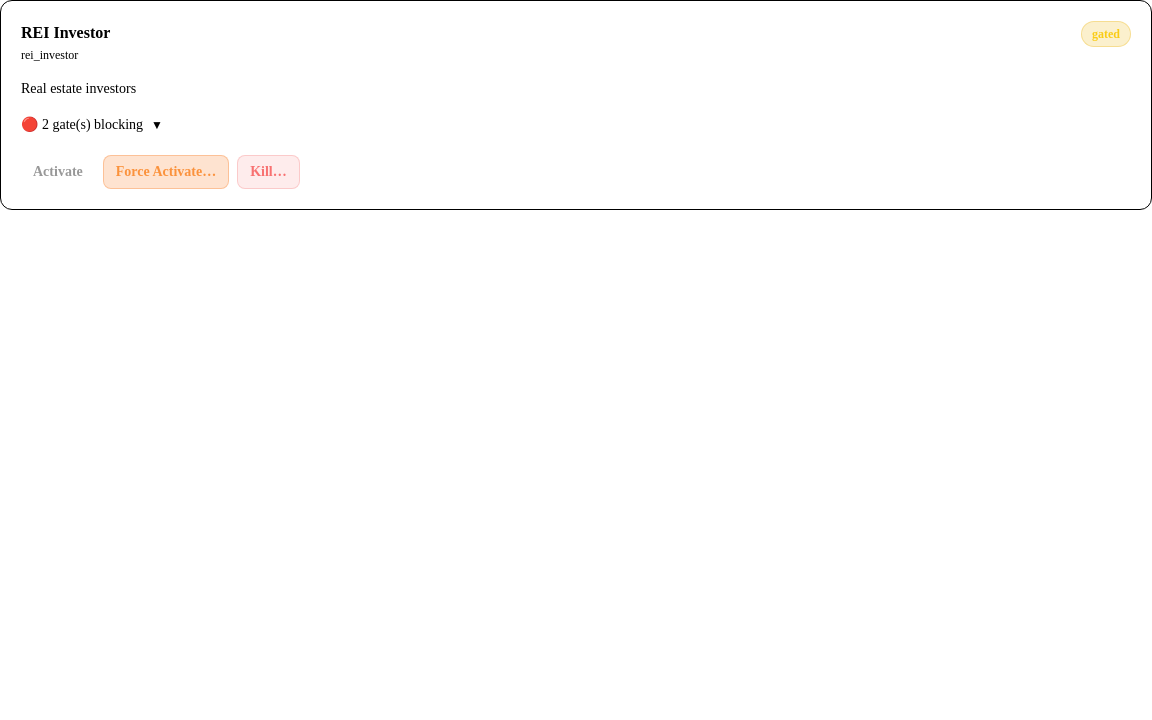
IcpChannelCard — force modal flow › force modal opens when Force Activate is clicked
Click the button with test id "btn-force-activate": (166, 172) [103, 155, 229, 189]
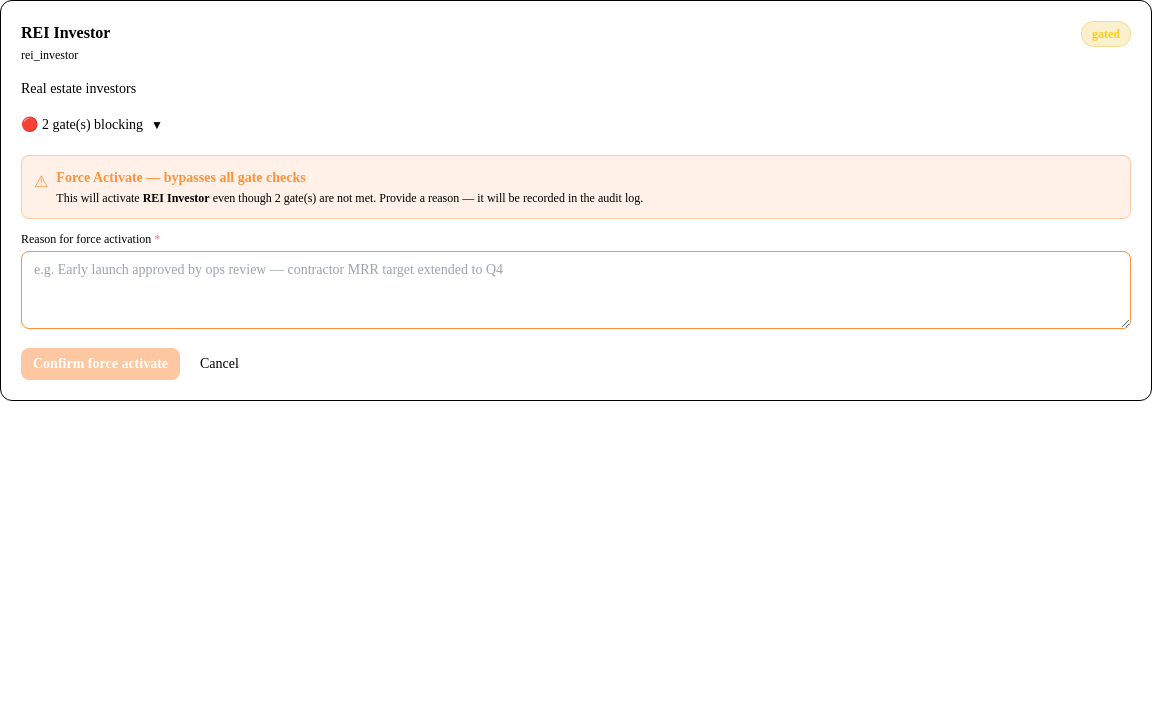
Expected: the dialog with test id "force-modal" is shown, [21, 151, 1131, 380]
Expected: the text box with test id "force-reason-input" is shown, [21, 251, 1131, 329]
